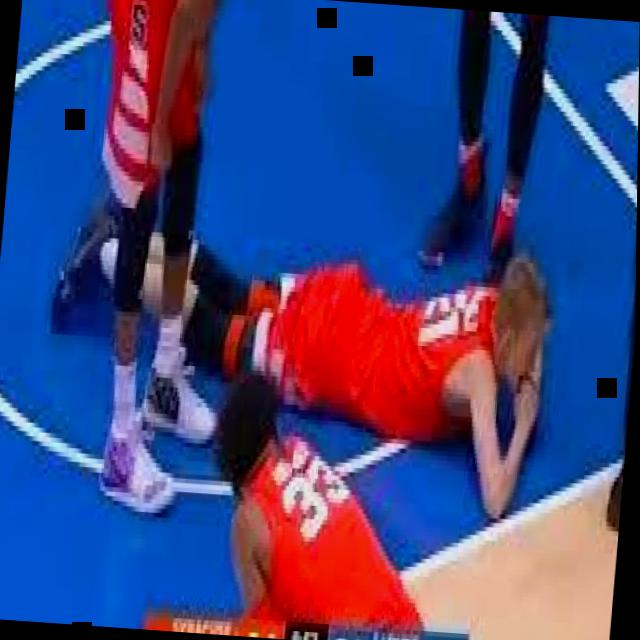Fall-Detected: (38, 171, 567, 490)
